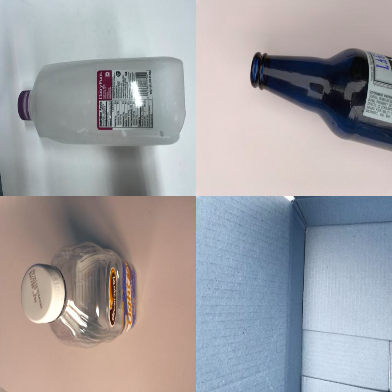cardboard: (195, 196, 390, 392)
glass: (250, 49, 392, 151)
plastic: (19, 57, 185, 145), (20, 242, 137, 348)
